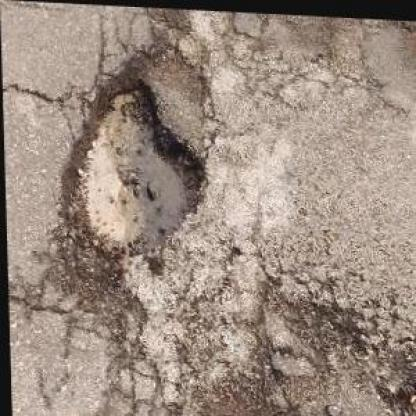pothole: (51, 58, 214, 280)
